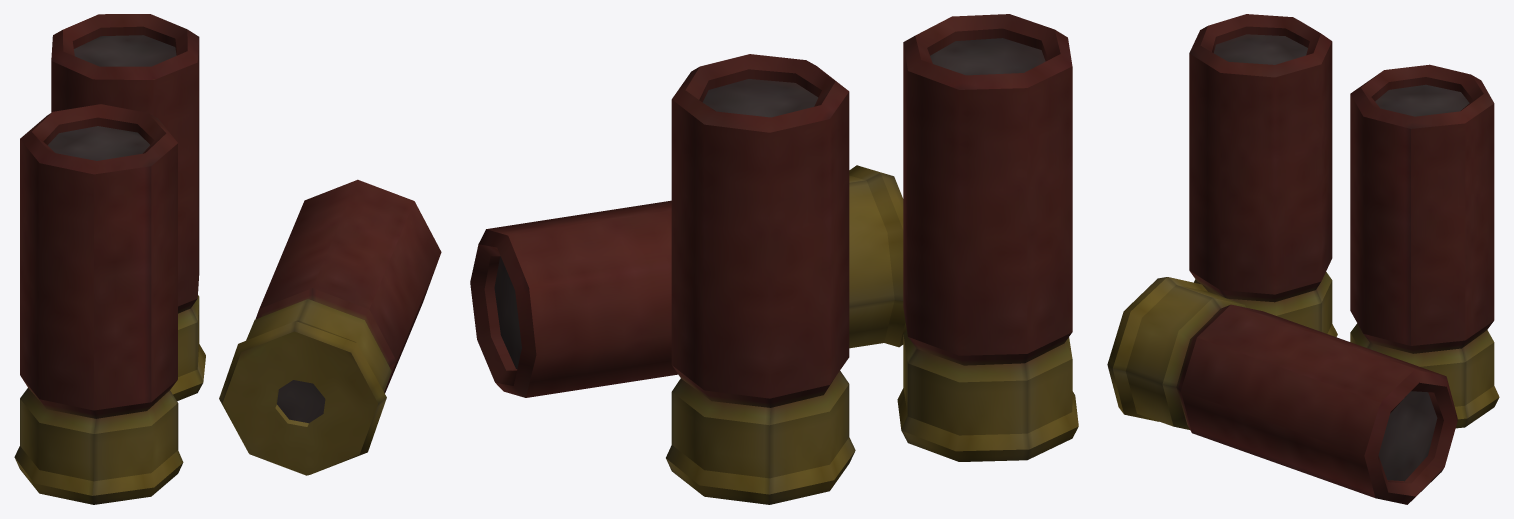
File: shotgun_ammo_1.fbx
3 views of the same model, side by side, from view 1: azimuth 30°, elevation 25°; view 2: azimuth 150°, elevation 25°; view 3: azimuth 270°, elevation 25° (orthographic). The views are drawn at different scales.
Parts seen in each view (by area): view 1: shotgun_ammo_1; view 2: shotgun_ammo_1; view 3: shotgun_ammo_1.
Boxes of the visible parts, x1=… form: shotgun_ammo_1: x1=14, y1=14, x2=441, y2=504; shotgun_ammo_1: x1=470, y1=14, x2=1078, y2=504; shotgun_ammo_1: x1=1107, y1=14, x2=1499, y2=504.
Bounding box in the file's own units: 0.1115 × 0.0768 × 0.0874.
Materials: 1 (1 with a texture image).
